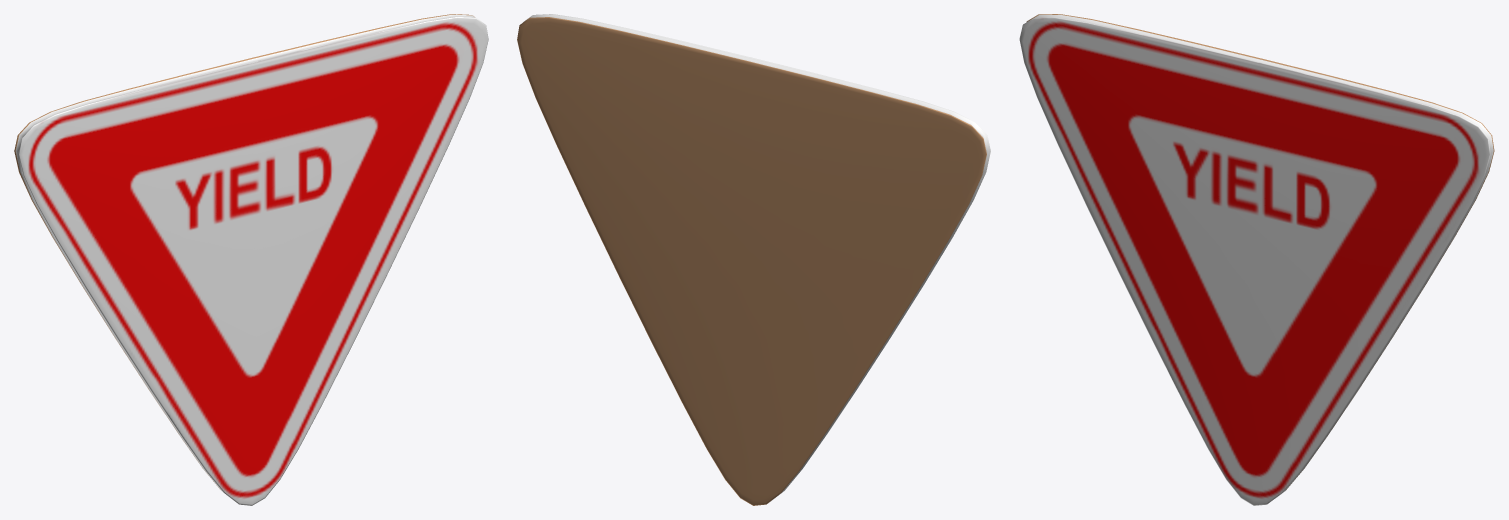
The model's file is Trisign.fbx.
3 views of the same model, side by side, from view 1: azimuth 30°, elevation 25°; view 2: azimuth 150°, elevation 25°; view 3: azimuth 330°, elevation 25° (orthographic).
Visible parts, largest first — view 1: Sign_LOD0; view 2: Sign_LOD0; view 3: Sign_LOD0.
Boxes of the visible parts, left/top/right/bottom form: Sign_LOD0: left=14, top=14, right=488, bottom=505; Sign_LOD0: left=517, top=14, right=990, bottom=505; Sign_LOD0: left=1019, top=14, right=1494, bottom=505.
Size of what is drawn, in the model's own units: 941 by 849 by 27.52.
